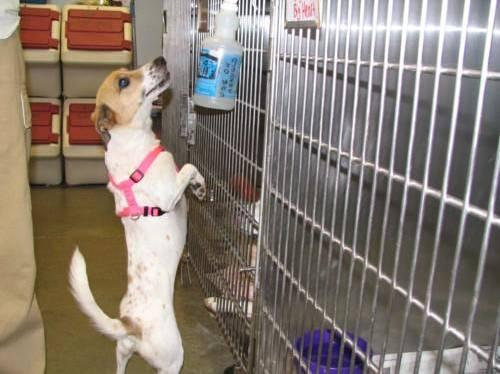dog: (91, 58, 205, 374)
